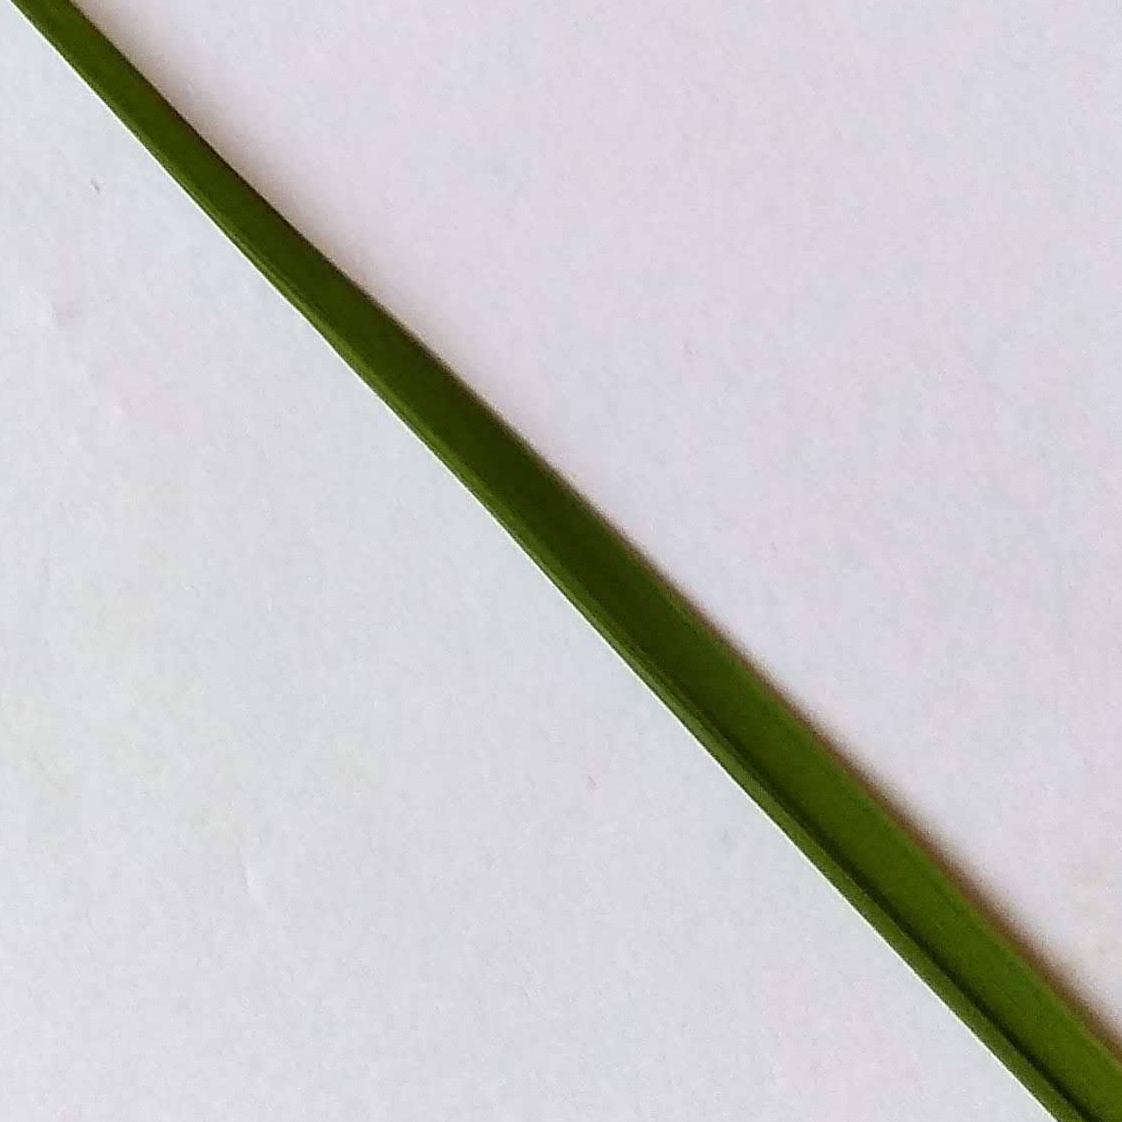healthy: (14, 1, 1122, 1121)
